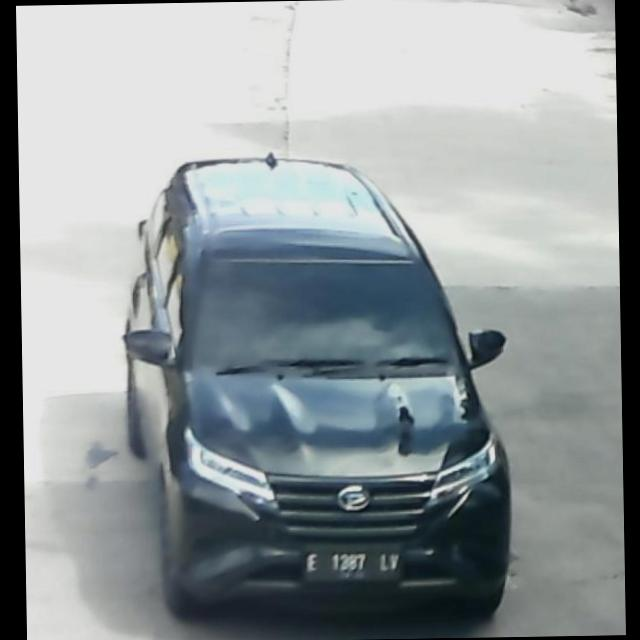plate: (302, 548, 408, 583)
